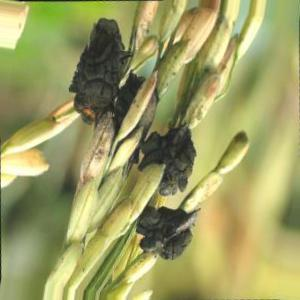Leaf_Scald: (74, 28, 135, 118), (146, 115, 191, 184), (143, 202, 193, 256)
